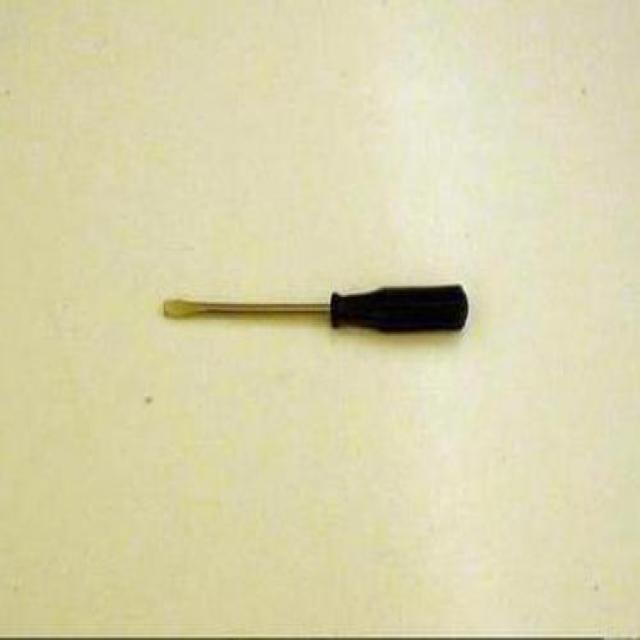screwdriver: (132, 250, 511, 350)
